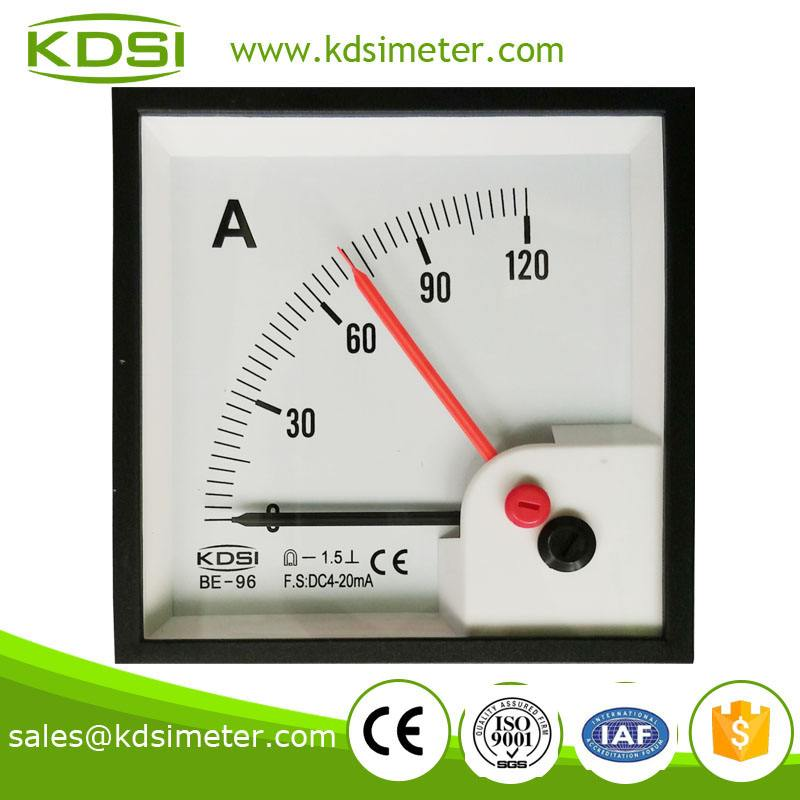pointer: (137, 110, 662, 641)
